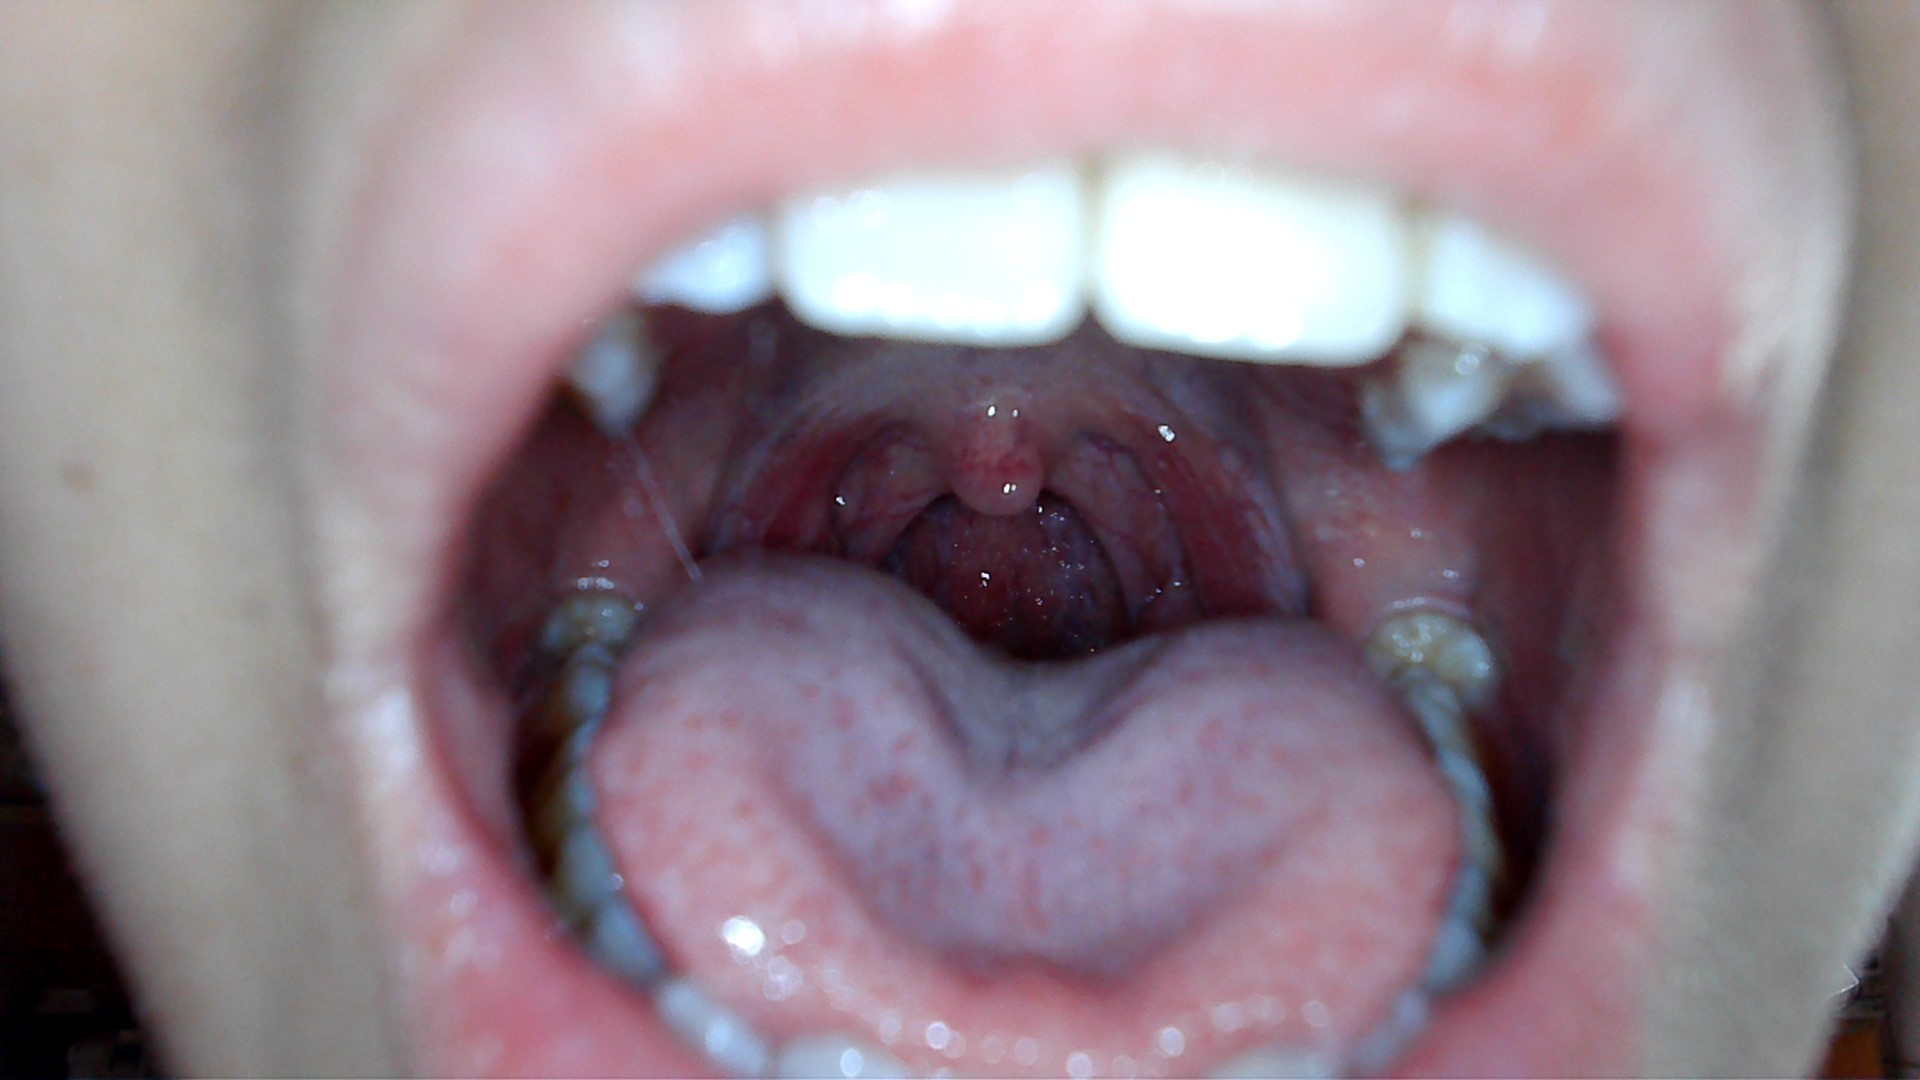throat: (1138, 415, 1278, 620), (758, 407, 851, 556)
